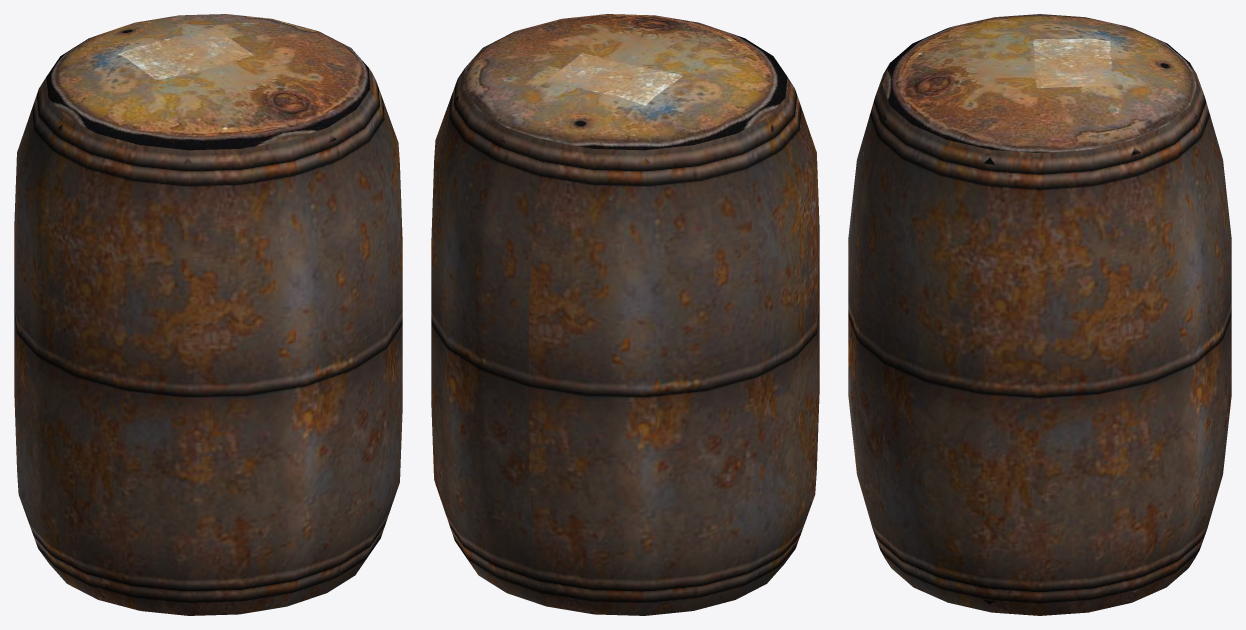
The model's file is barrel_metal.fbx.
The picture shows the model from 3 angles, left to right: view 1: azimuth 30°, elevation 25°; view 2: azimuth 150°, elevation 25°; view 3: azimuth 270°, elevation 25°; orthographic projection.
Visible parts, largest first — view 1: pCylinder2; view 2: pCylinder2; view 3: pCylinder2.
Boxes of the visible parts, x1,y1,x2,y2 form: pCylinder2: (14, 14, 402, 615); pCylinder2: (431, 14, 819, 615); pCylinder2: (848, 14, 1231, 615).
Size of the model in its own units: 1.79 by 2.48 by 1.76.
Materials: 2 (2 with a texture image).
